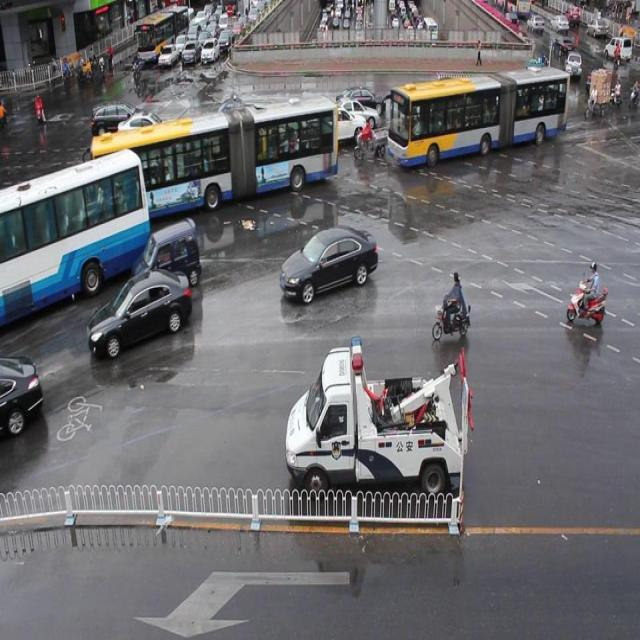bus: (286, 333, 474, 494)
car: (91, 272, 192, 354), (279, 226, 378, 299), (133, 220, 202, 286), (0, 354, 44, 439), (218, 104, 276, 159), (306, 100, 366, 144), (119, 111, 173, 157), (92, 102, 150, 140), (235, 118, 274, 168), (435, 88, 480, 130), (330, 97, 379, 132), (210, 97, 260, 131), (398, 87, 446, 122), (336, 85, 385, 115), (444, 77, 490, 108), (488, 80, 528, 114), (520, 73, 555, 108), (519, 66, 555, 96)
van: (91, 102, 338, 214), (1, 158, 151, 324), (385, 73, 568, 163)
